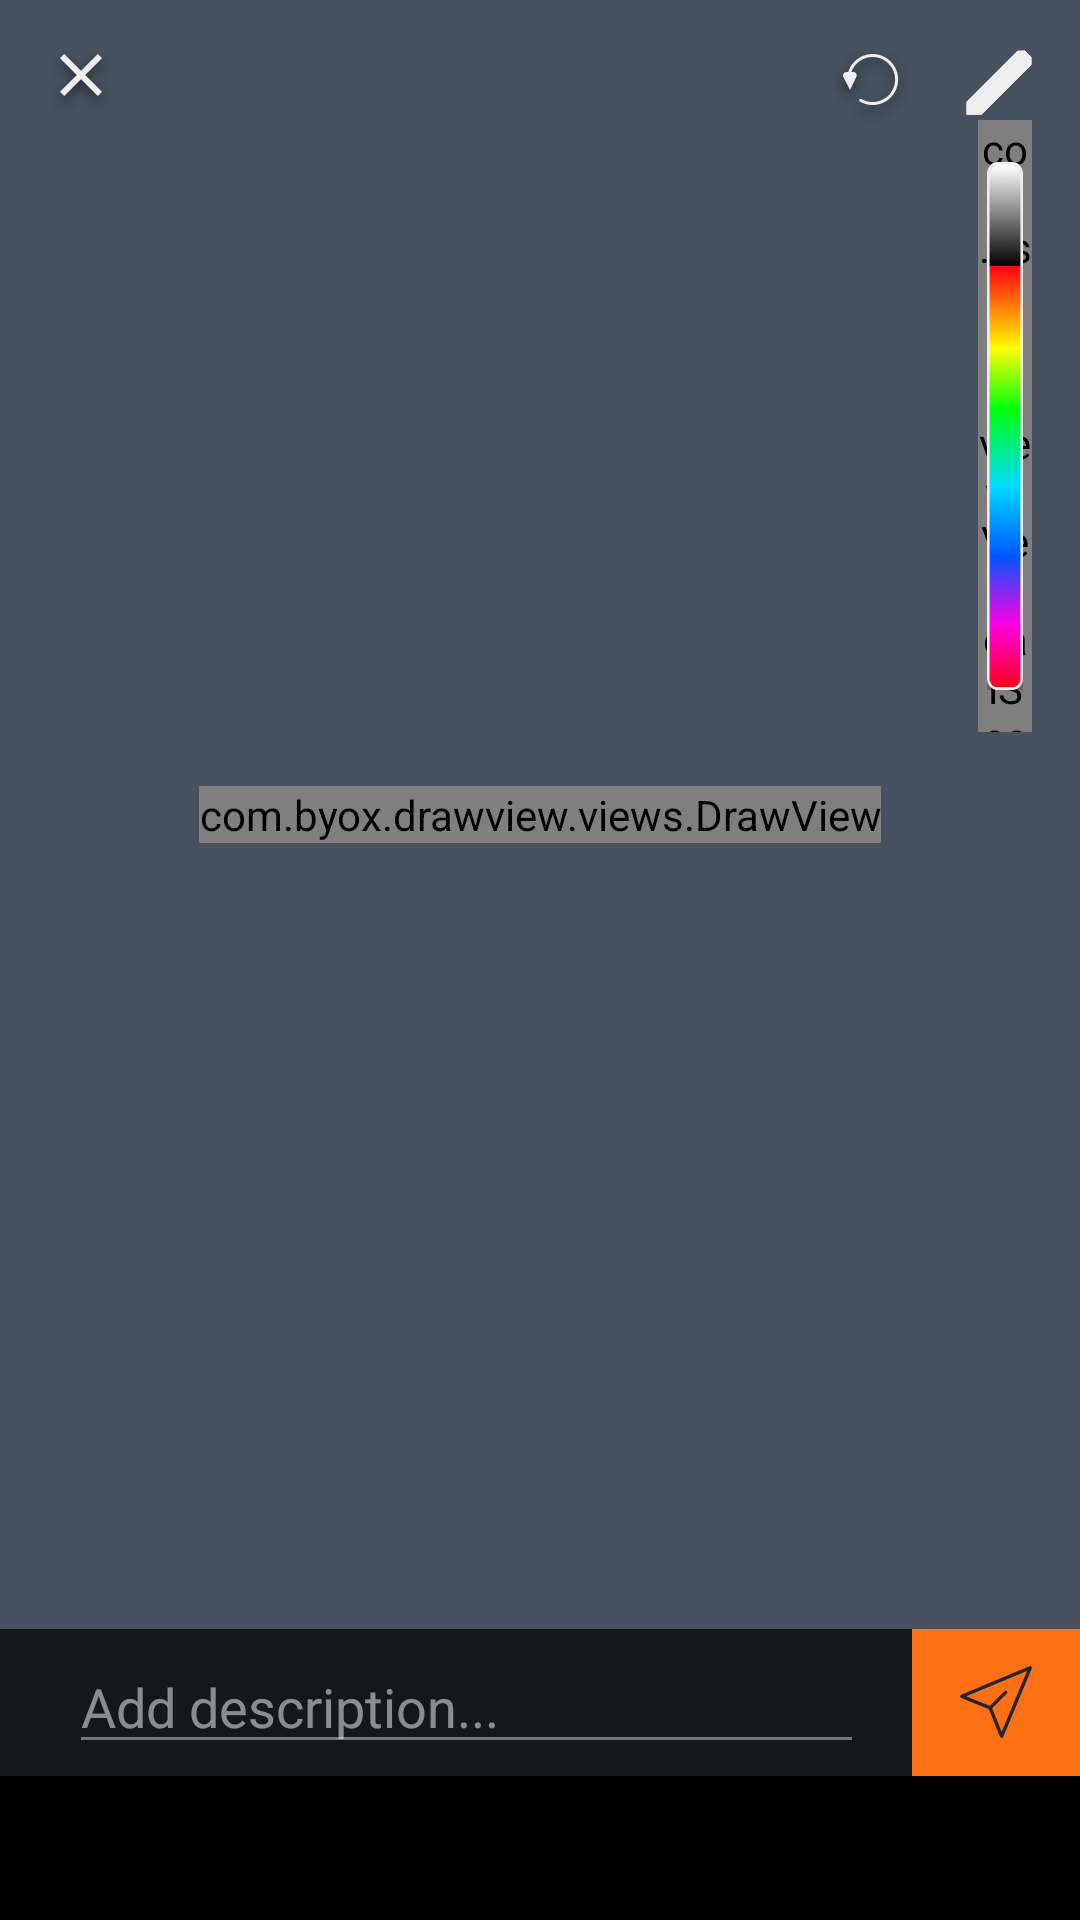

Where to tap for icons on this 1080px×1920px app screen, as point (x, y):
close: point (81, 75)
send: point (996, 1702)
undo: point (870, 79)
